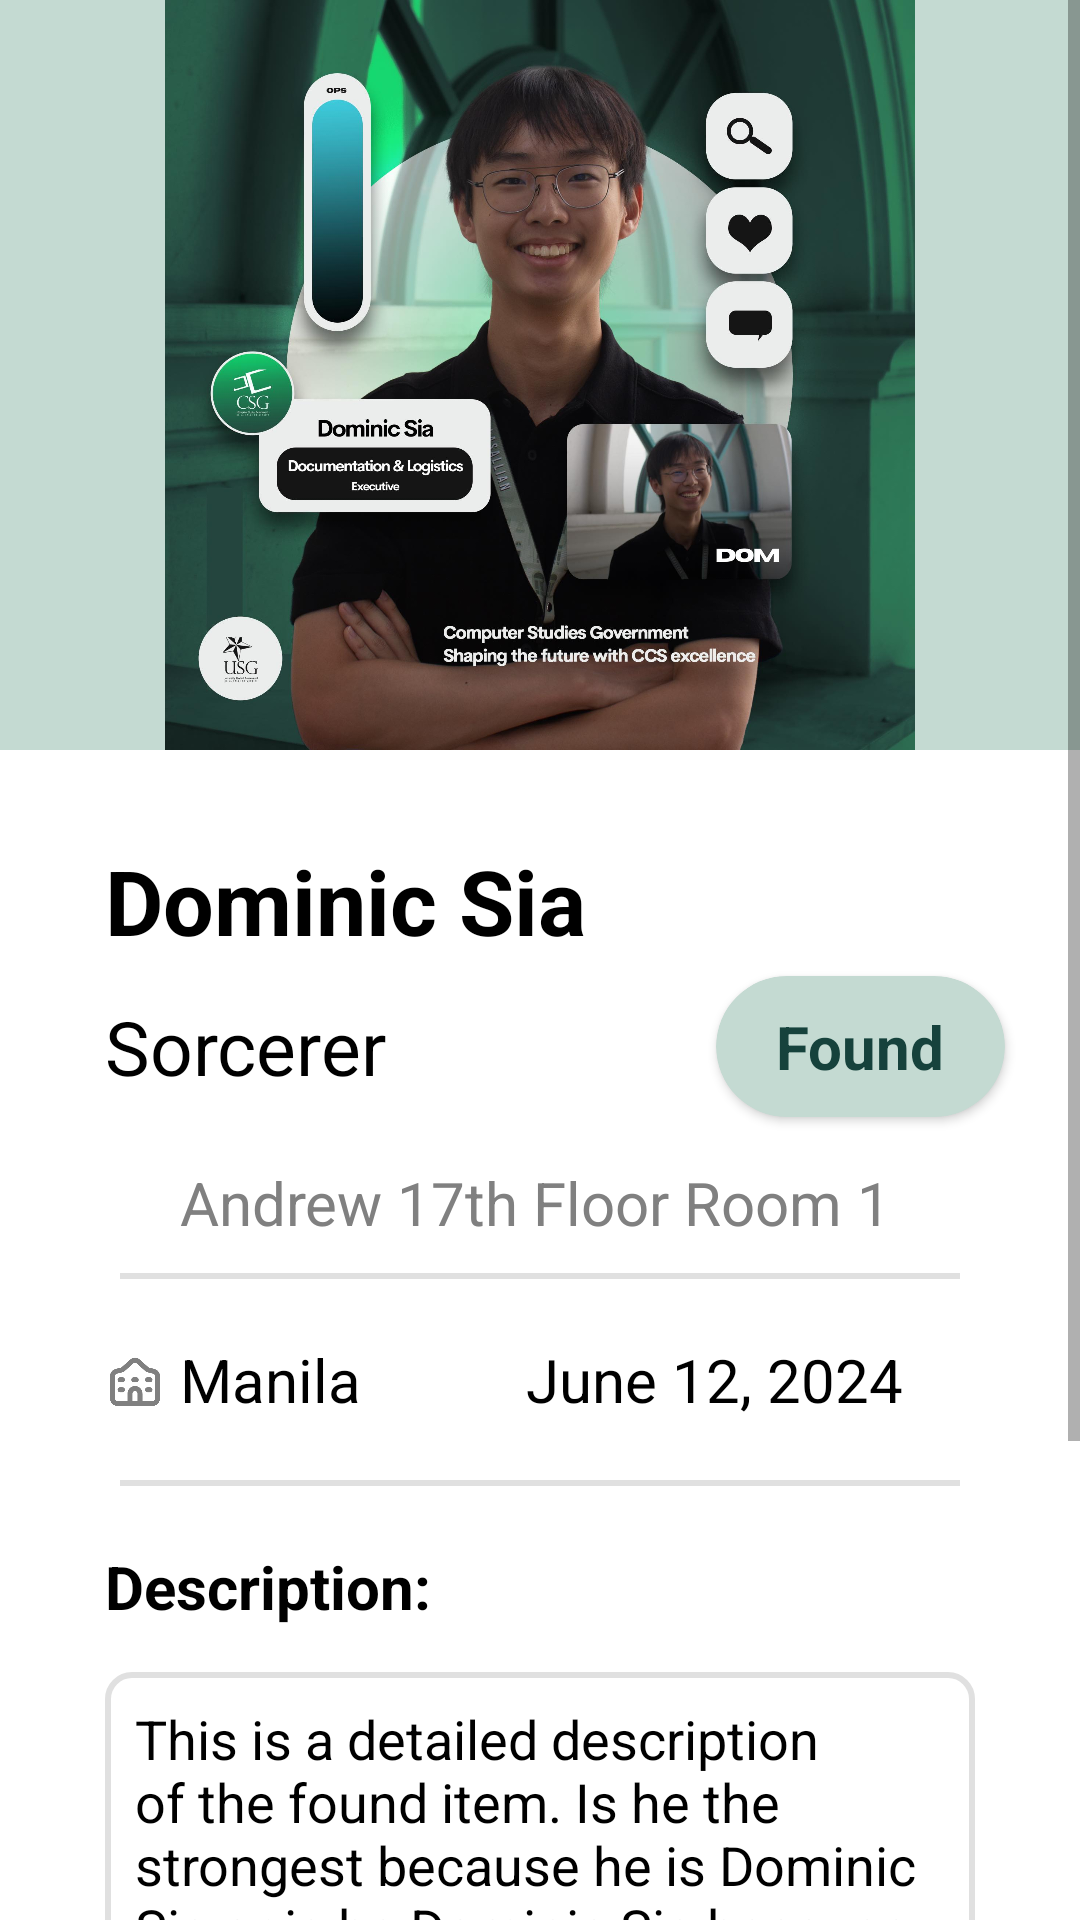

Locate icon controls on the screen. Image size 1080w x 1920h, boxes as (x1, y1, x2, y2).
school: (110, 1358, 160, 1406)
